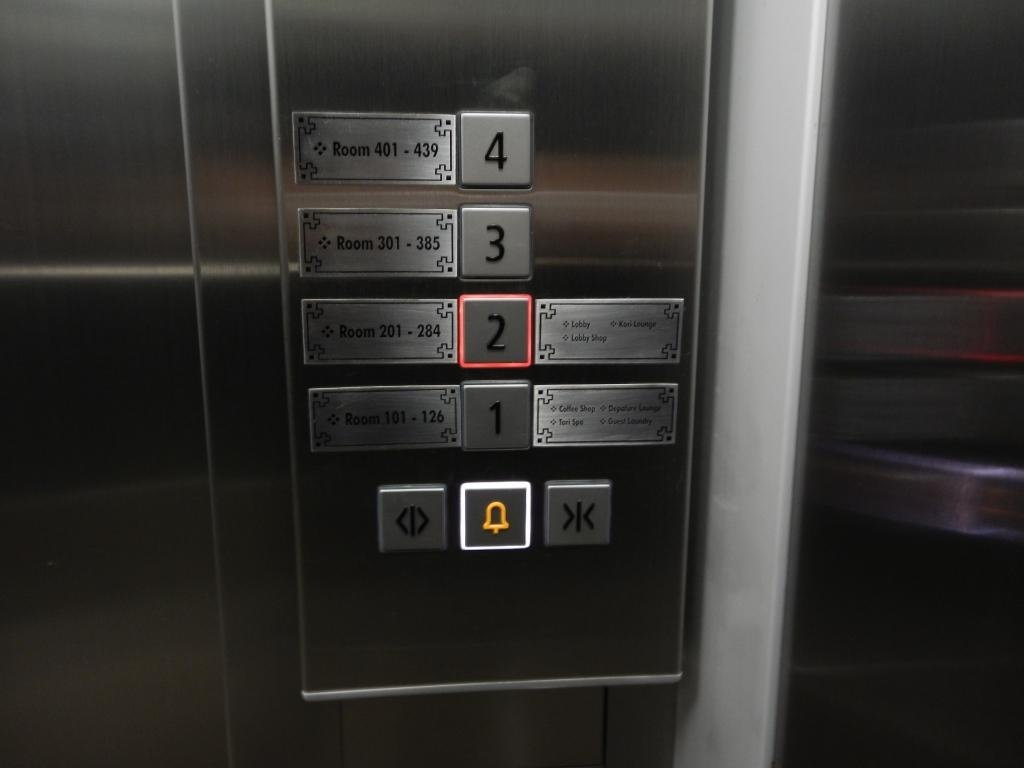1: (456, 376, 534, 455)
2: (455, 288, 533, 372)
3: (456, 198, 537, 286)
4: (455, 106, 538, 194)
alarm: (455, 475, 533, 554)
close: (537, 474, 615, 553)
open: (372, 479, 450, 558)
